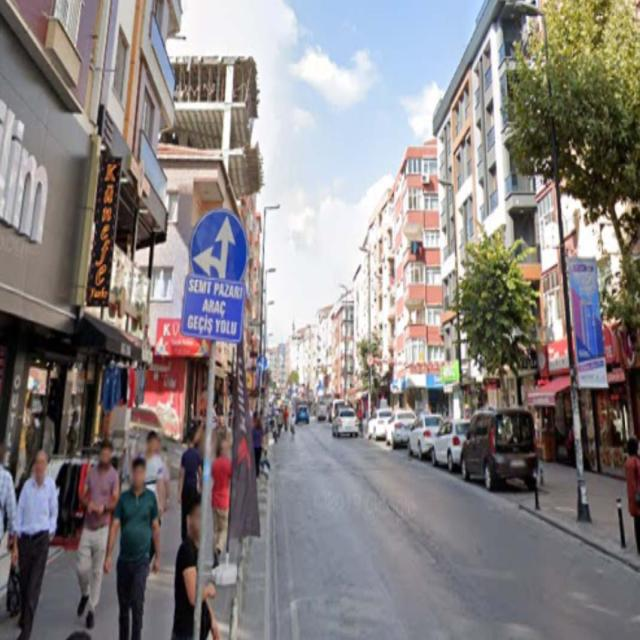ilerisol: (190, 207, 246, 284)
